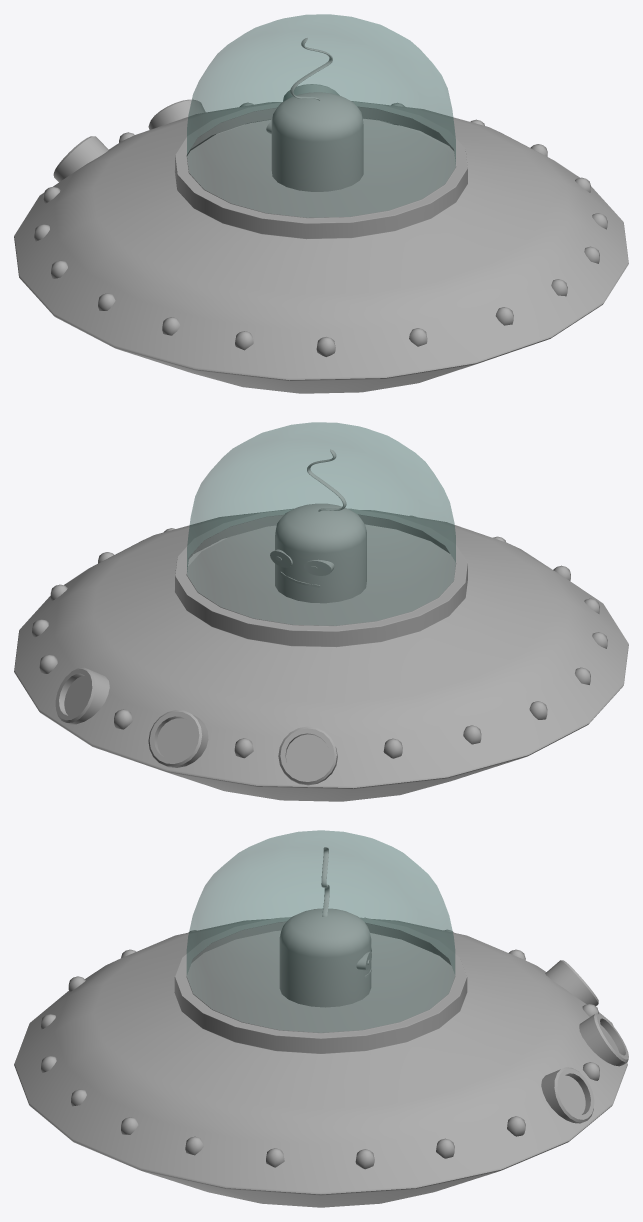
Rendered from enemy.fbx.
3 views of the same model, one above another, from view 1: azimuth 30°, elevation 25°; view 2: azimuth 150°, elevation 25°; view 3: azimuth 270°, elevation 25° (orthographic).
Visible parts, largest first — view 1: ufo1; view 2: ufo1; view 3: ufo1.
Boxes of the visible parts, x1,y1,x2,y2 form: ufo1: [14, 14, 628, 393]; ufo1: [14, 422, 628, 801]; ufo1: [14, 830, 628, 1207].
Size of the model in its own units: 13.4 by 7.58 by 13.42.
